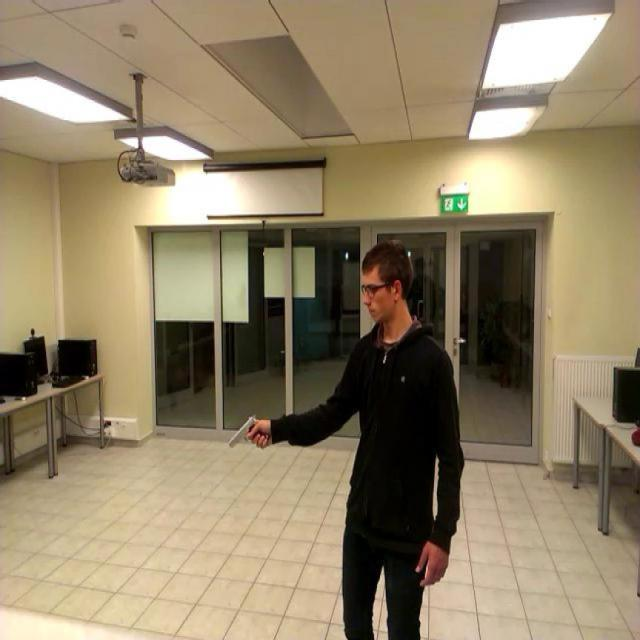pistol: (227, 413, 268, 447)
